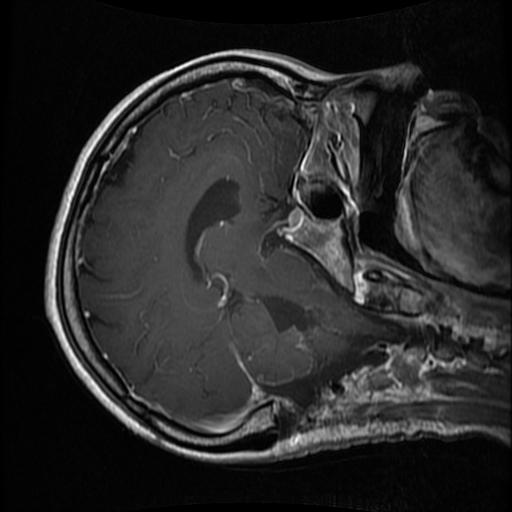glioma: (258, 296, 323, 335)
